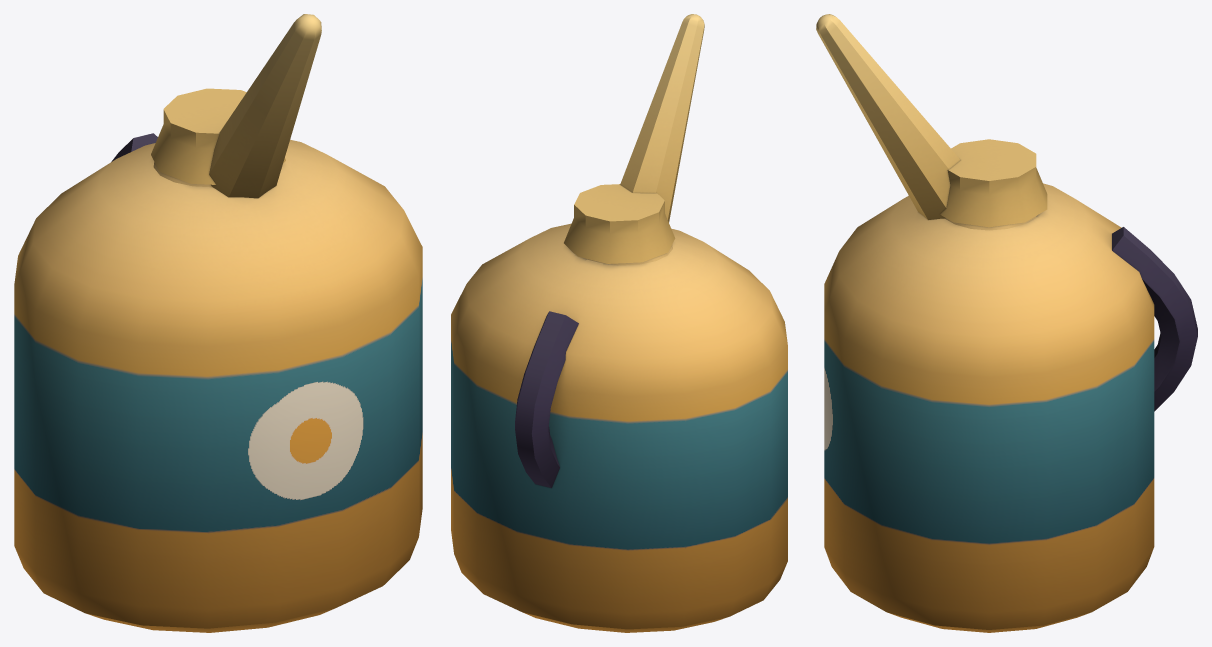
File: item_oil_can.fbx
3 views of the same model, side by side, from view 1: azimuth 30°, elevation 25°; view 2: azimuth 150°, elevation 25°; view 3: azimuth 270°, elevation 25° (orthographic). The views are drawn at different scales.
Visible parts, largest first — view 1: item_oil_can; view 2: item_oil_can; view 3: item_oil_can.
Part boxes in pixels (bbox=[...]): item_oil_can: bbox=[14, 14, 422, 632]; item_oil_can: bbox=[451, 14, 787, 632]; item_oil_can: bbox=[816, 14, 1197, 632].
Size of the model in its own units: 99.44 by 160 by 100.
1 material, 1 textured.
